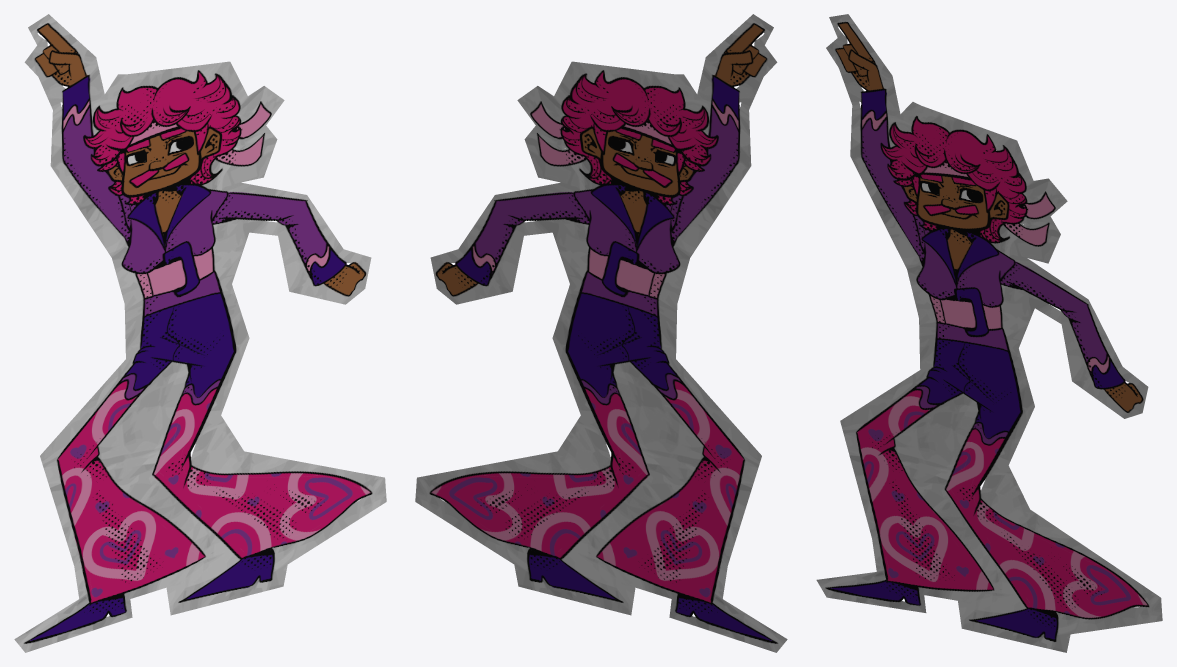
File: Crowd Meshes_02.fbx
3 renders of one model, left to right at view 1: azimuth 30°, elevation 25°; view 2: azimuth 150°, elevation 25°; view 3: azimuth 330°, elevation 25°, orthographic. The views are drawn at different scales.
Visible parts, largest first — view 1: Plane.001; view 2: Plane.001; view 3: Plane.001.
Boxes of the visible parts, x1=… form: Plane.001: x1=14, y1=14, x2=386, y2=652; Plane.001: x1=415, y1=14, x2=787, y2=652; Plane.001: x1=816, y1=14, x2=1162, y2=652.
Size of the model in its own units: 1.19 by 1.93 by 1.46e-07.
